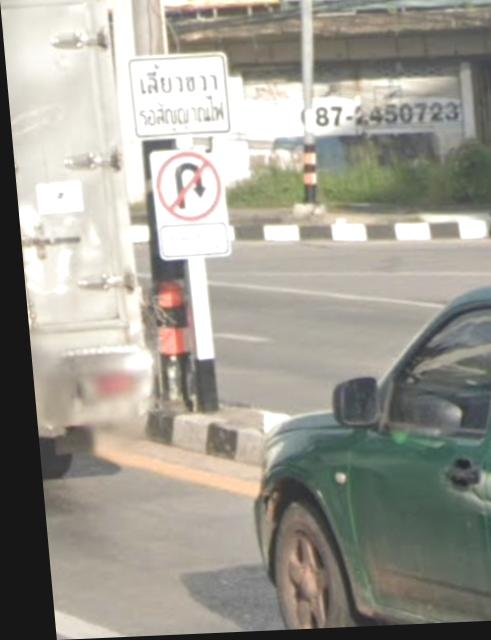not_u_turn_right: (151, 152, 221, 226)
